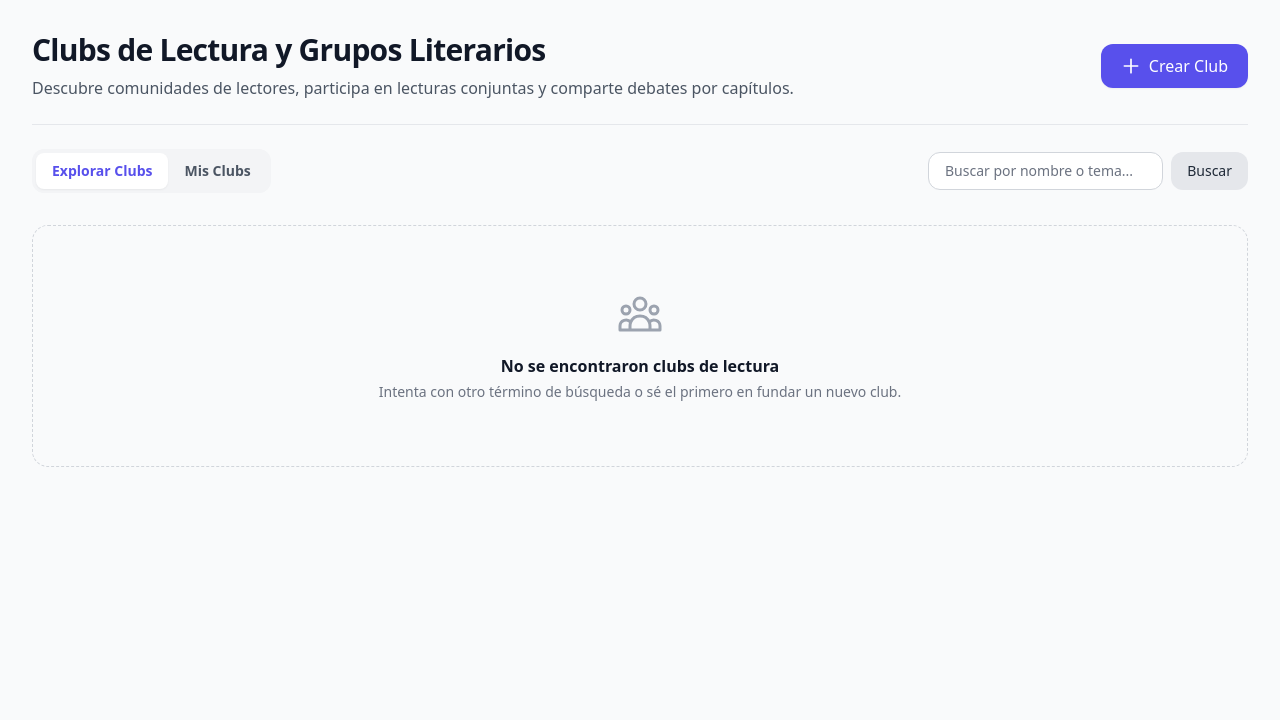
Test case: ClubsPage Component › opens and closes create club modal properly
Expected: the heading "No se encontraron clubs de lectura" is shown, 501,355 -> 779,377
Click the button "Crear Club".
click(1174, 66)  # box 1101,44 -> 1248,88
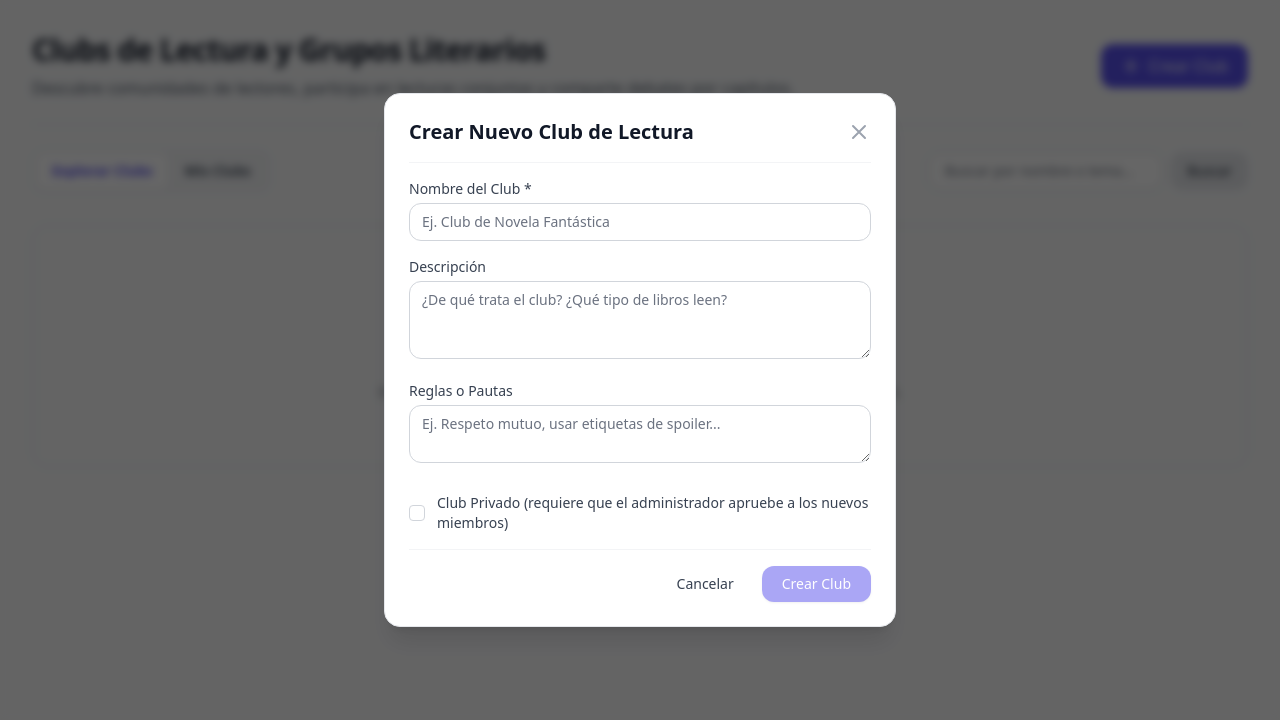
Now the dialog is shown
Now the field labelled "Nombre del Club *" is shown, box 409,203 -> 871,241
Click the button "Cancelar".
click(705, 584)  # box 660,566 -> 750,602
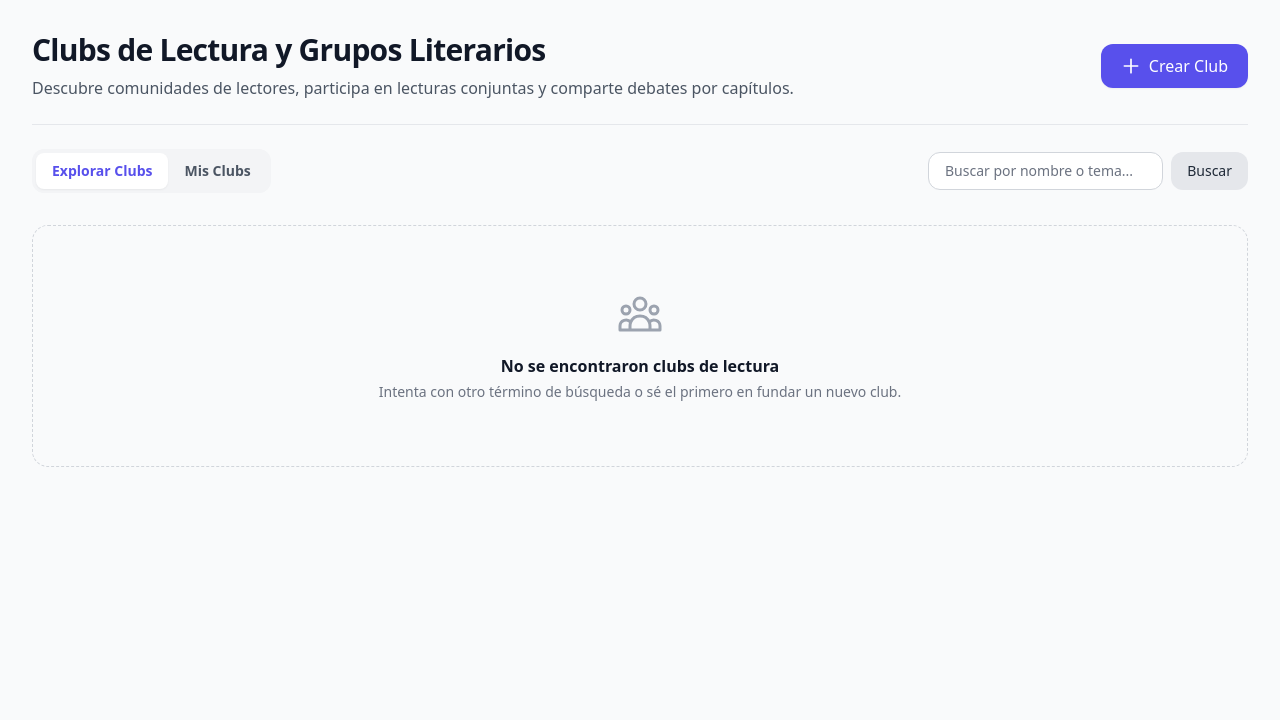
Now the dialog is gone
